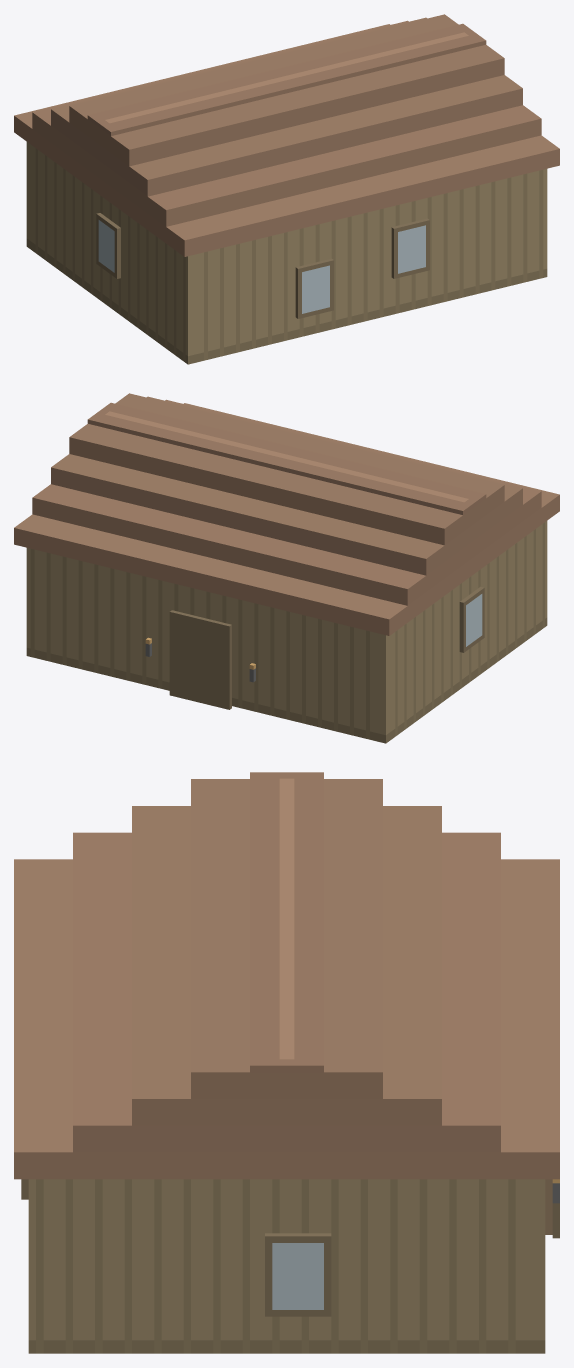
Rendered from taller_arquero_02.glb.
The picture shows the model from 3 angles, top to bottom: view 1: azimuth 30°, elevation 25°; view 2: azimuth 150°, elevation 25°; view 3: azimuth 270°, elevation 25°; orthographic projection. The views are drawn at different scales.
Parts seen in each view (by area): view 1: taller_arquero_02; view 2: taller_arquero_02; view 3: taller_arquero_02.
Part boxes in pixels (x1,y1,x2,y2): taller_arquero_02: (14,14,559,364); taller_arquero_02: (14,393,559,743); taller_arquero_02: (14,772,559,1353).
Bounding box in the file's own units: 9.4 × 4.4 × 7.4.
